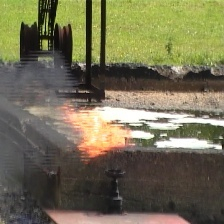fire: (63, 103, 133, 153)
